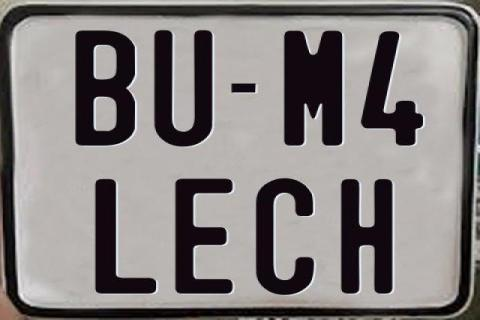0: (359, 31, 424, 148)
B: (74, 29, 134, 145)
C: (256, 177, 320, 297)
E: (175, 177, 234, 293)
H: (341, 179, 396, 297)
L: (93, 178, 157, 294)
M: (284, 28, 346, 144)
U: (153, 30, 216, 150)
